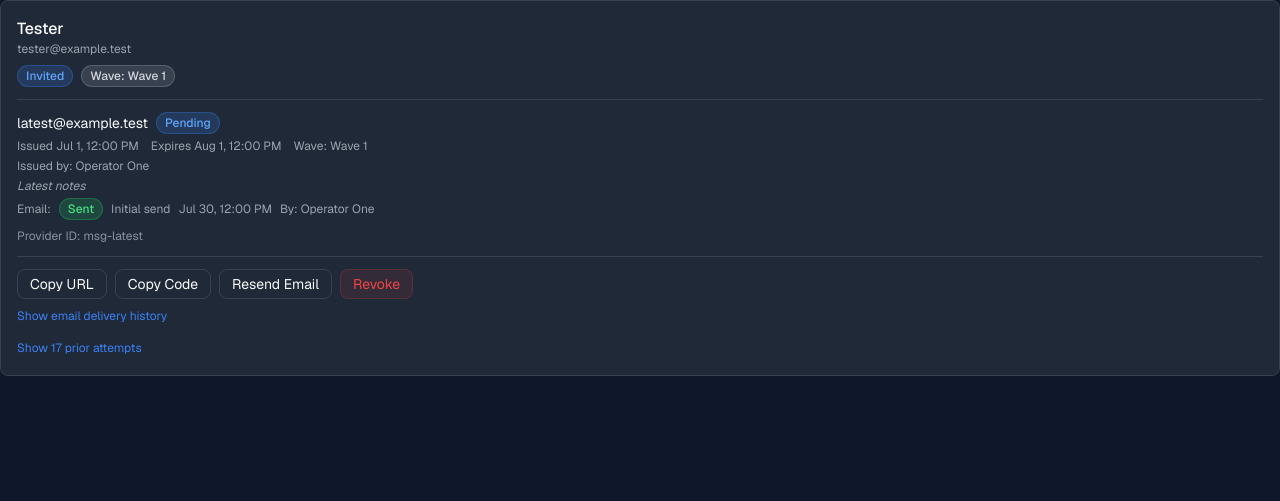
Test: DeliveryHistoryDisclosure (#175) › lazy-loads and paginates delivery history only after the toggle is clicked
Click the button "Show email delivery history" at (92, 316), box [17, 308, 167, 324]
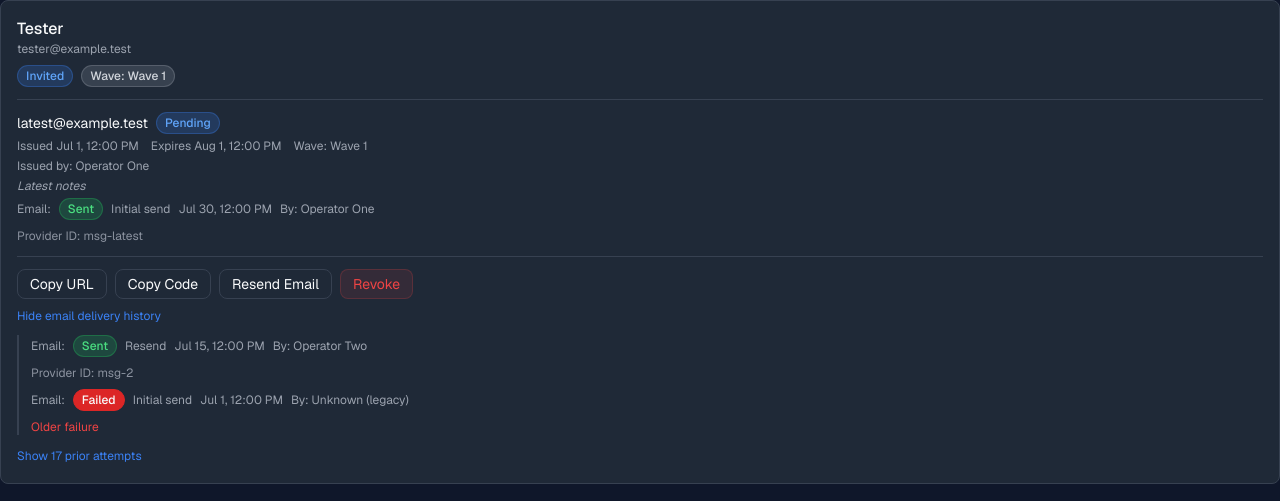
Check: the text "Older failure" is shown, box [31, 419, 99, 435]
